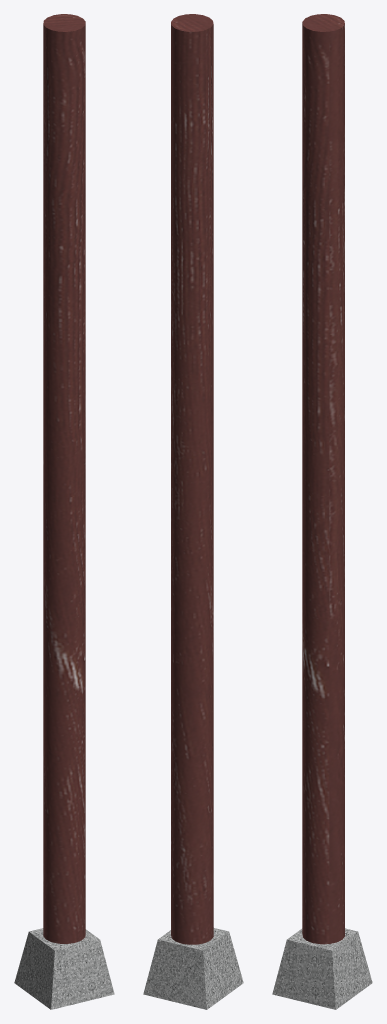
Rendered from SM_Sun_Won_Pillar_B.fbx.
3 views of the same model, side by side, from view 1: azimuth 30°, elevation 25°; view 2: azimuth 150°, elevation 25°; view 3: azimuth 330°, elevation 25° (orthographic).
Parts seen in each view (by area): view 1: SM_Sun_Won_Pillar_B; view 2: SM_Sun_Won_Pillar_B; view 3: SM_Sun_Won_Pillar_B.
Boxes of the visible parts, bbox=[...] form: SM_Sun_Won_Pillar_B: bbox=[14, 14, 114, 1009]; SM_Sun_Won_Pillar_B: bbox=[143, 14, 243, 1009]; SM_Sun_Won_Pillar_B: bbox=[272, 14, 372, 1009].
Size of the model in its own units: 26 by 377 by 26.
